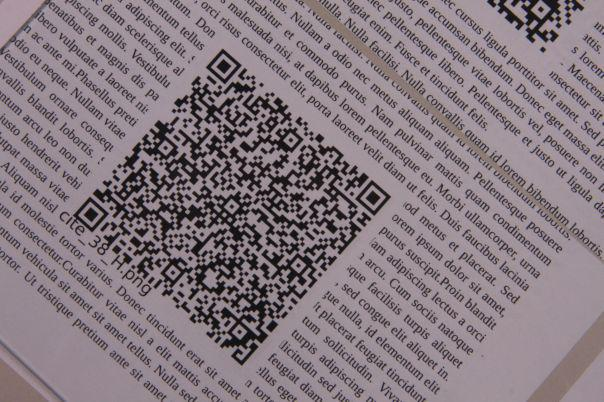Finder pattern: (355, 179, 392, 216), (206, 52, 242, 83), (75, 199, 108, 230)
